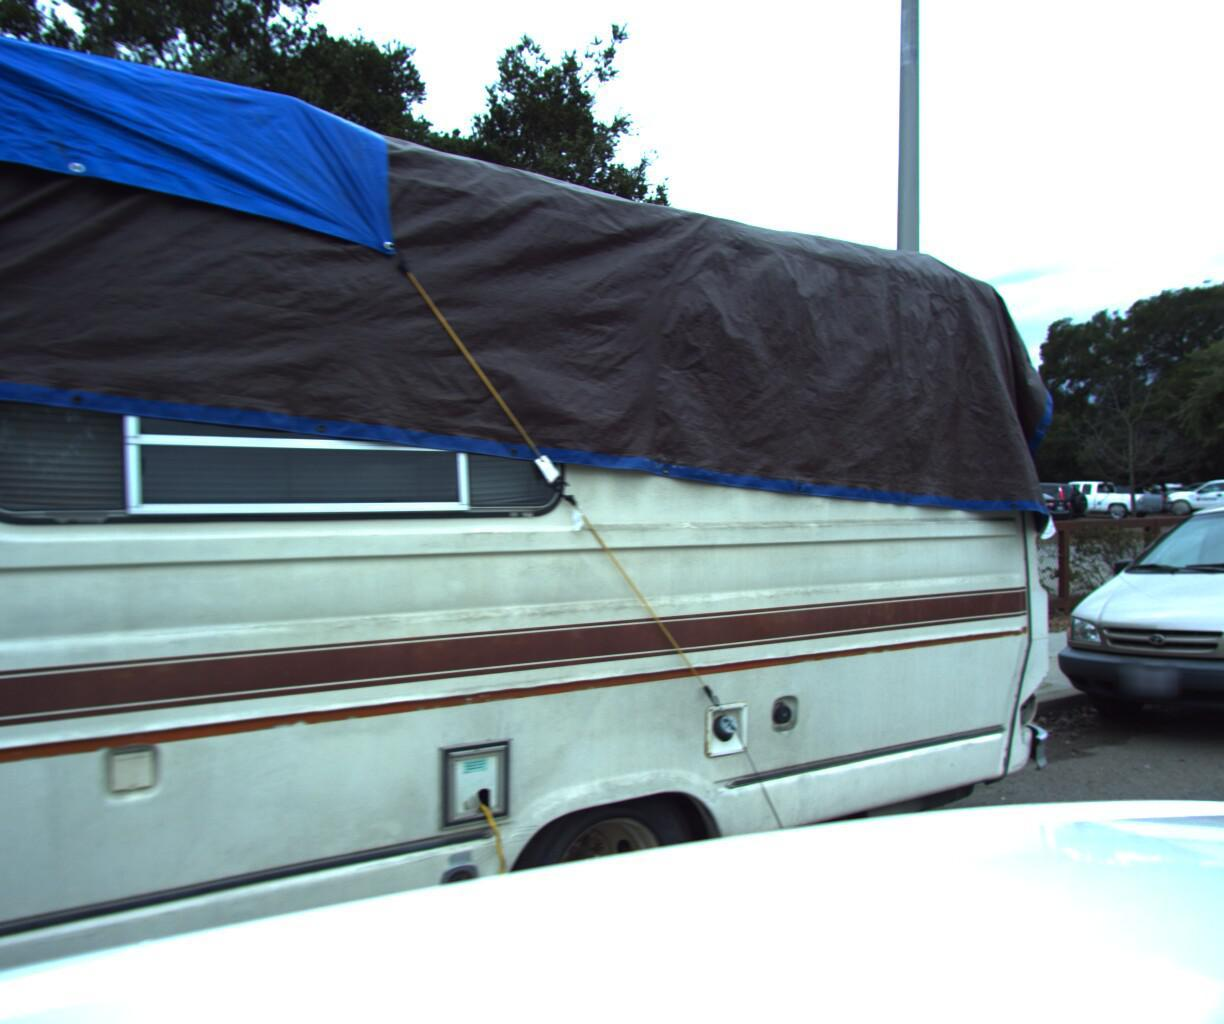car: (1016, 459, 1224, 780)
other_vehicle: (0, 0, 1174, 1024)
